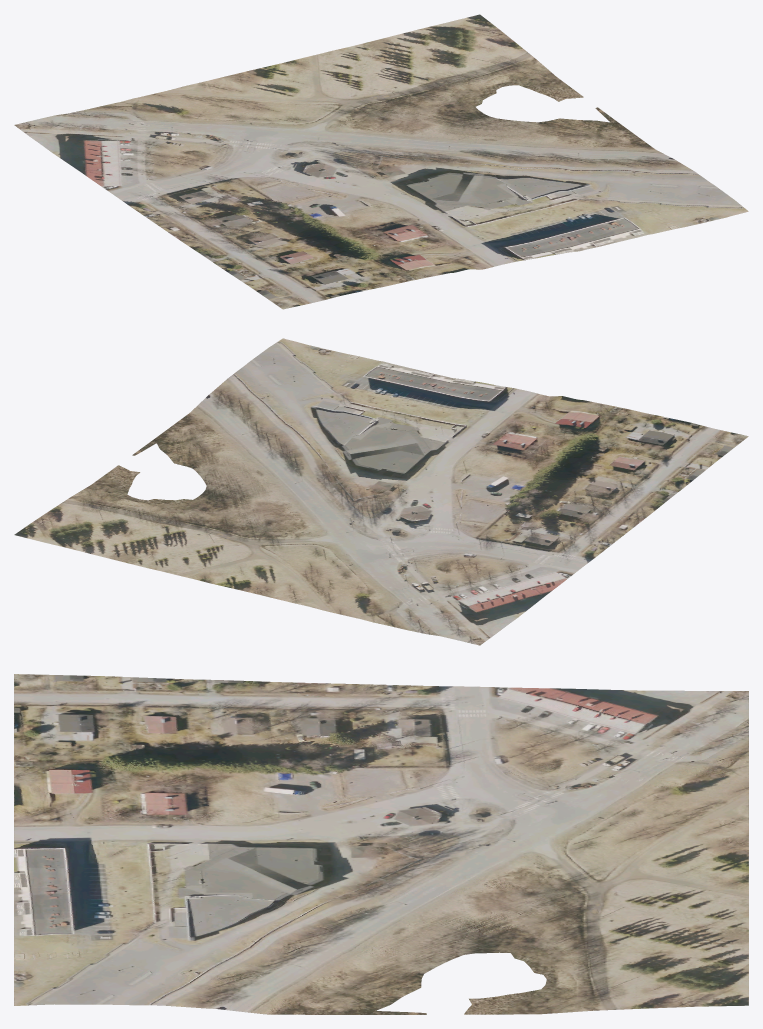
Rendered from CM_Terrain_24489434_6819180.fbx.
3 views of the same model, one above another, from view 1: azimuth 30°, elevation 25°; view 2: azimuth 150°, elevation 25°; view 3: azimuth 270°, elevation 25° (orthographic). The views are drawn at different scales.
Parts seen in each view (by area): view 1: CM_Terrain_24489434_6819180_LOD0; view 2: CM_Terrain_24489434_6819180_LOD0; view 3: CM_Terrain_24489434_6819180_LOD0.
Part boxes in pixels (bbox=[...]): CM_Terrain_24489434_6819180_LOD0: bbox=[14, 14, 748, 309]; CM_Terrain_24489434_6819180_LOD0: bbox=[14, 338, 748, 645]; CM_Terrain_24489434_6819180_LOD0: bbox=[14, 674, 748, 1014].
Size of what is drawn, in the model's own units: 205 by 9.31 by 205.
